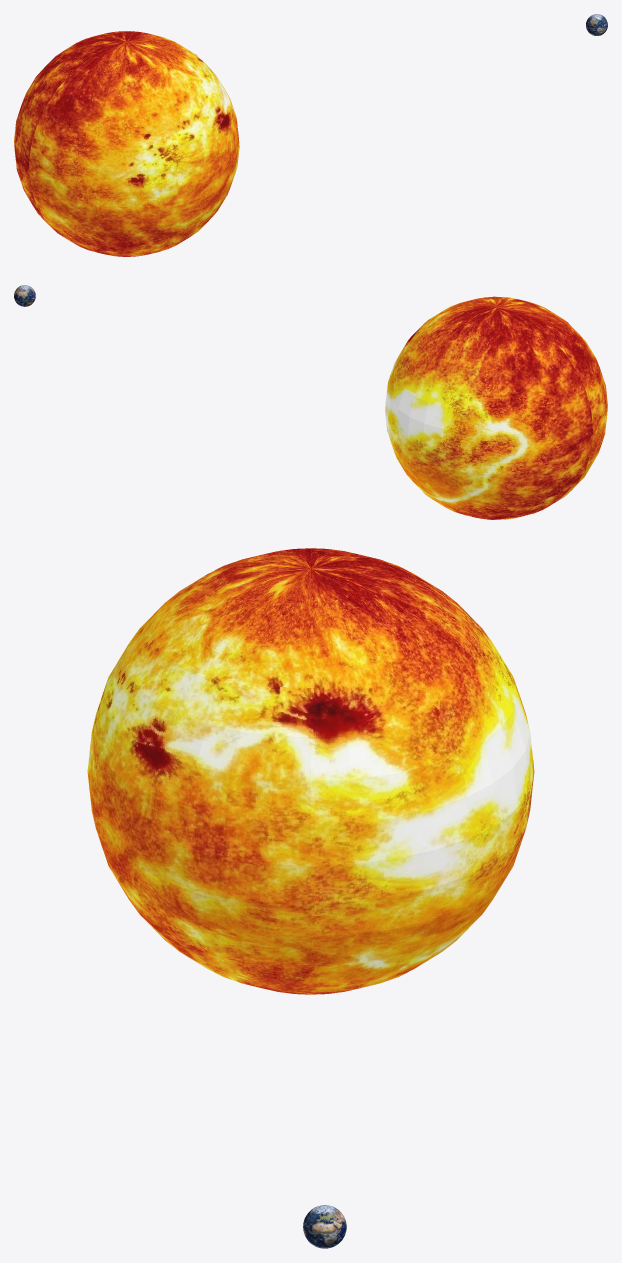
The model's file is солнечная система.glb.
The picture shows the model from 3 angles, top to bottom: view 1: azimuth 30°, elevation 25°; view 2: azimuth 150°, elevation 25°; view 3: azimuth 270°, elevation 25°; orthographic projection. The views are drawn at different scales.
Visible parts, largest first — view 1: Сфера, Сфера.001; view 2: Сфера, Сфера.001; view 3: Сфера, Сфера.001.
Boxes of the visible parts, x1=… form: Сфера: x1=14, y1=31, x2=239, y2=256; Сфера.001: x1=586, y1=14, x2=607, y2=35; Сфера: x1=385, y1=296, x2=607, y2=519; Сфера.001: x1=14, y1=285, x2=35, y2=306; Сфера: x1=87, y1=548, x2=534, y2=994; Сфера.001: x1=303, y1=1205, x2=346, y2=1248.
Size of the model in its own units: 60.69 by 20.45 by 20.45.
Materials: 2 (2 with a texture image).
